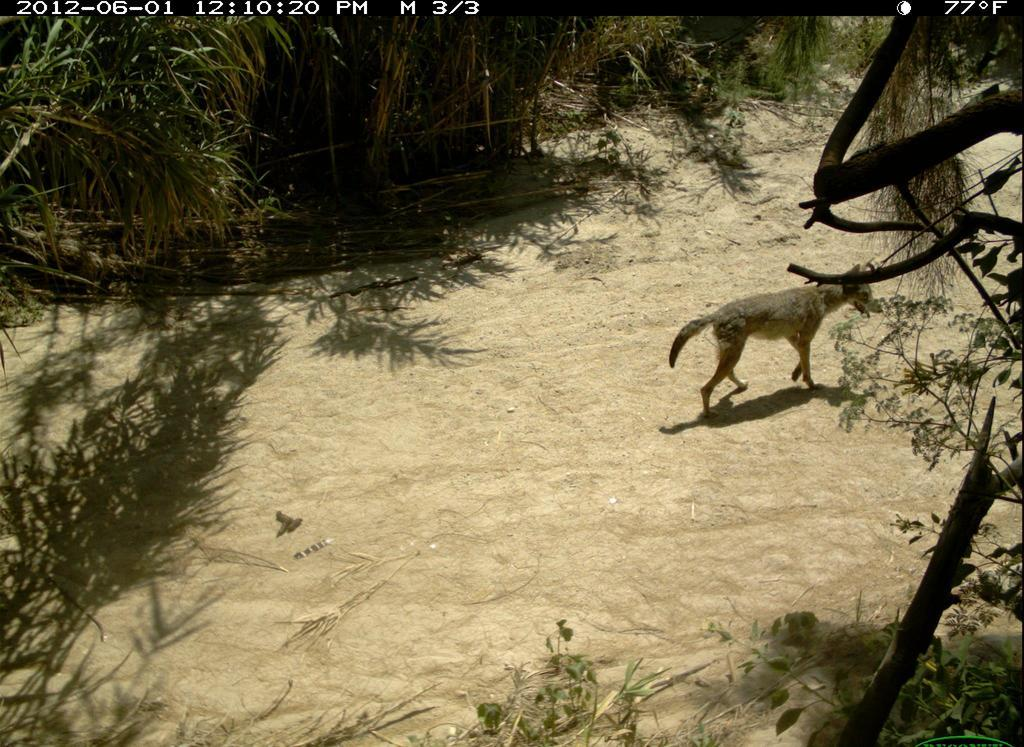coyote: (657, 259, 888, 437)
